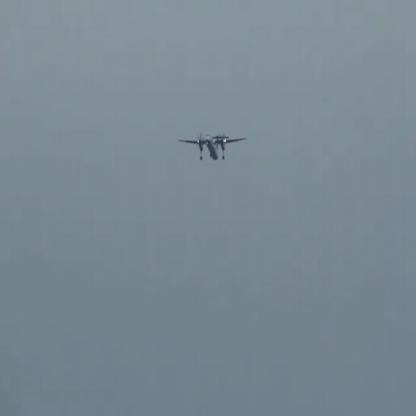CIV_Plane: (177, 132, 247, 160)
